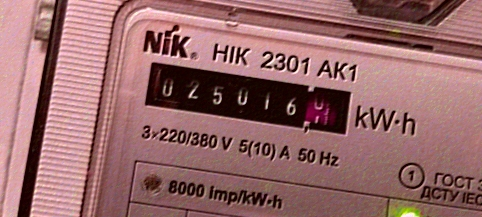0: (234, 84, 252, 109), (159, 76, 175, 100), (311, 91, 326, 112)
1: (259, 87, 274, 113), (310, 114, 320, 126)
2: (185, 77, 201, 102)
5: (209, 84, 223, 106)
6: (282, 93, 299, 120)
screen: (133, 50, 362, 145)
